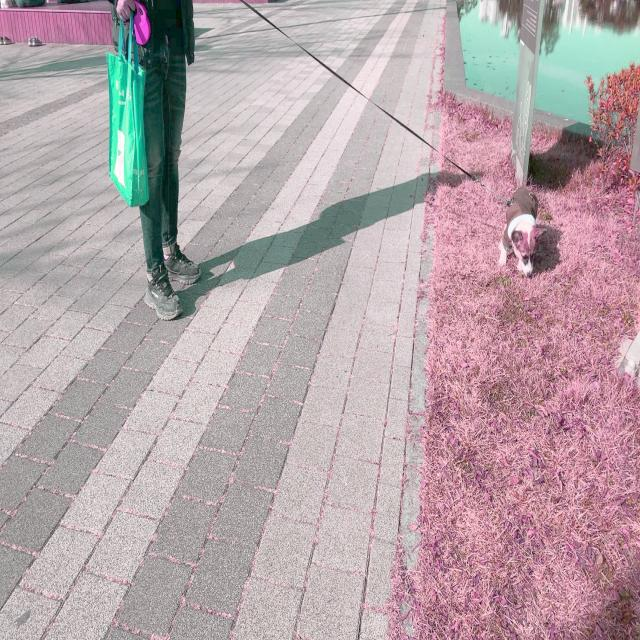Leashed_Dog: (118, 0, 548, 278)
